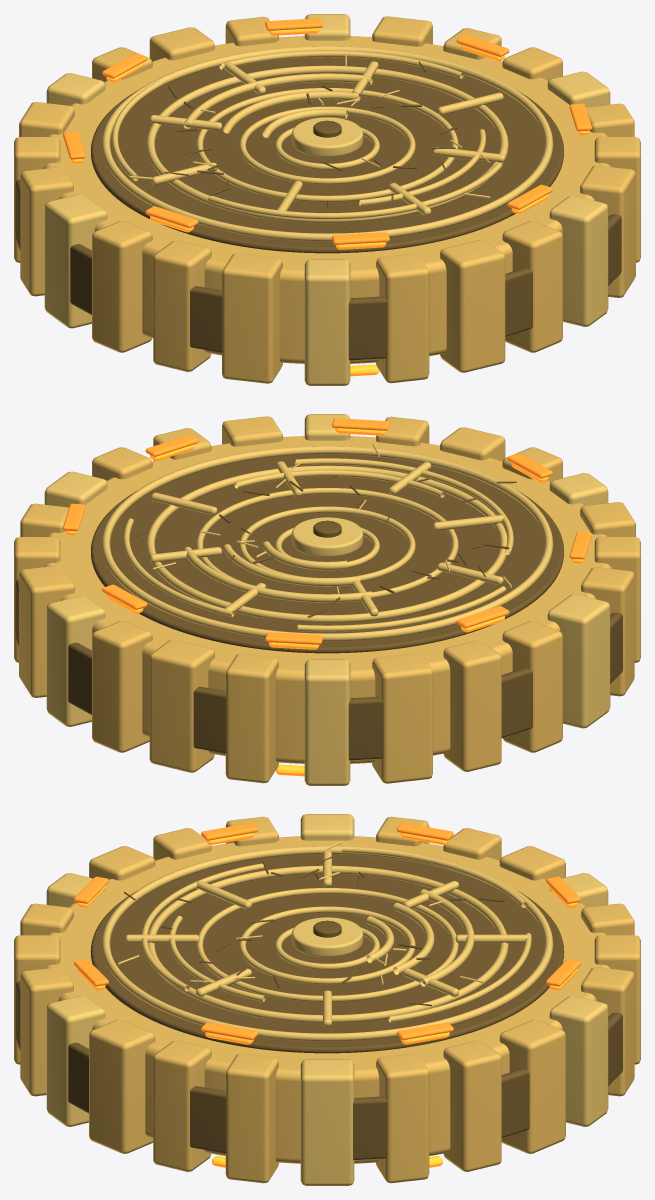
The model's file is GoldenSciFiCoin.glb.
3 renders of one model, top to bottom at view 1: azimuth 30°, elevation 25°; view 2: azimuth 150°, elevation 25°; view 3: azimuth 270°, elevation 25°, orthographic.
Parts seen in each view (by area): view 1: Coin_Front_DarkRecessedFace, Coin_Body_ThickWarmGoldDisk, Coin_Front_RaisedConcentricRing_4, Coin_OuterArmorSegment_18, Coin_OuterArmorSegment_15, Coin_OuterArmorSegment_13, Coin_OuterArmorSegment_20, Coin_OuterArmorSegment_17, Coin_OuterArmorSegment_16, Coin_OuterArmorSegment_14, Coin_Front_RaisedConcentricRing_3, Coin_OuterArmorSegment_19 (+42 smaller); view 2: Coin_Front_DarkRecessedFace, Coin_Body_ThickWarmGoldDisk, Coin_Front_RaisedConcentricRing_4, Coin_OuterArmorSegment_09, Coin_OuterArmorSegment_06, Coin_OuterArmorSegment_10, Coin_OuterArmorSegment_05, Coin_OuterArmorSegment_12, Coin_OuterArmorSegment_07, Coin_Front_RaisedConcentricRing_3, Coin_OuterArmorSegment_08, Coin_OuterArmorSegment_11 (+42 smaller); view 3: Coin_Front_DarkRecessedFace, Coin_Body_ThickWarmGoldDisk, Coin_Front_RaisedConcentricRing_4, Coin_OuterArmorSegment_21, Coin_OuterArmorSegment_00, Coin_OuterArmorSegment_02, Coin_OuterArmorSegment_23, Coin_Front_RaisedConcentricRing_3, Coin_OuterArmorSegment_03, Coin_OuterArmorSegment_01, Coin_OuterArmorSegment_04, Coin_OuterArmorSegment_22 (+40 smaller).
Part boxes in pixels (x1,y1,x2,y2): Coin_Front_DarkRecessedFace: [91, 57, 563, 253]; Coin_Body_ThickWarmGoldDisk: [43, 36, 610, 363]; Coin_Front_RaisedConcentricRing_4: [101, 46, 553, 241]; Coin_OuterArmorSegment_18: [440, 239, 505, 372]; Coin_OuterArmorSegment_15: [222, 253, 282, 383]; Coin_OuterArmorSegment_13: [92, 220, 152, 352]; Coin_OuterArmorSegment_20: [549, 195, 608, 326]; Coin_OuterArmorSegment_17: [376, 253, 429, 383]; Coin_OuterArmorSegment_16: [304, 259, 350, 385]; Coin_OuterArmorSegment_14: [153, 240, 211, 371]; Coin_Front_RaisedConcentricRing_3: [146, 65, 508, 223]; Coin_OuterArmorSegment_19: [502, 220, 562, 352]; Coin_Front_DarkRecessedFace: [91, 454, 563, 653]; Coin_Body_ThickWarmGoldDisk: [44, 436, 611, 763]; Coin_Front_RaisedConcentricRing_4: [101, 446, 553, 641]; Coin_OuterArmorSegment_09: [372, 653, 432, 783]; Coin_OuterArmorSegment_06: [149, 639, 214, 772]; Coin_OuterArmorSegment_10: [443, 640, 501, 771]; Coin_OuterArmorSegment_05: [92, 620, 152, 752]; Coin_OuterArmorSegment_12: [547, 594, 610, 728]; Coin_OuterArmorSegment_07: [225, 653, 278, 783]; Coin_Front_RaisedConcentricRing_3: [146, 465, 507, 623]; Coin_OuterArmorSegment_08: [304, 659, 350, 785]; Coin_OuterArmorSegment_11: [502, 620, 562, 752]; Coin_Front_DarkRecessedFace: [90, 854, 564, 1053]; Coin_Body_ThickWarmGoldDisk: [44, 836, 610, 1163]; Coin_Front_RaisedConcentricRing_4: [101, 846, 553, 1041]; Coin_OuterArmorSegment_21: [89, 1019, 155, 1153]; Coin_OuterArmorSegment_00: [300, 1059, 354, 1185]; Coin_OuterArmorSegment_02: [443, 1040, 501, 1171]; Coin_OuterArmorSegment_23: [225, 1053, 278, 1183]; Coin_Front_RaisedConcentricRing_3: [148, 865, 508, 1023]; Coin_OuterArmorSegment_03: [499, 1019, 565, 1153]; Coin_OuterArmorSegment_01: [376, 1053, 429, 1183]; Coin_OuterArmorSegment_04: [549, 995, 608, 1126]; Coin_OuterArmorSegment_22: [153, 1040, 211, 1171].
Size of the model in its own units: 0.702 by 0.175 by 0.702.
